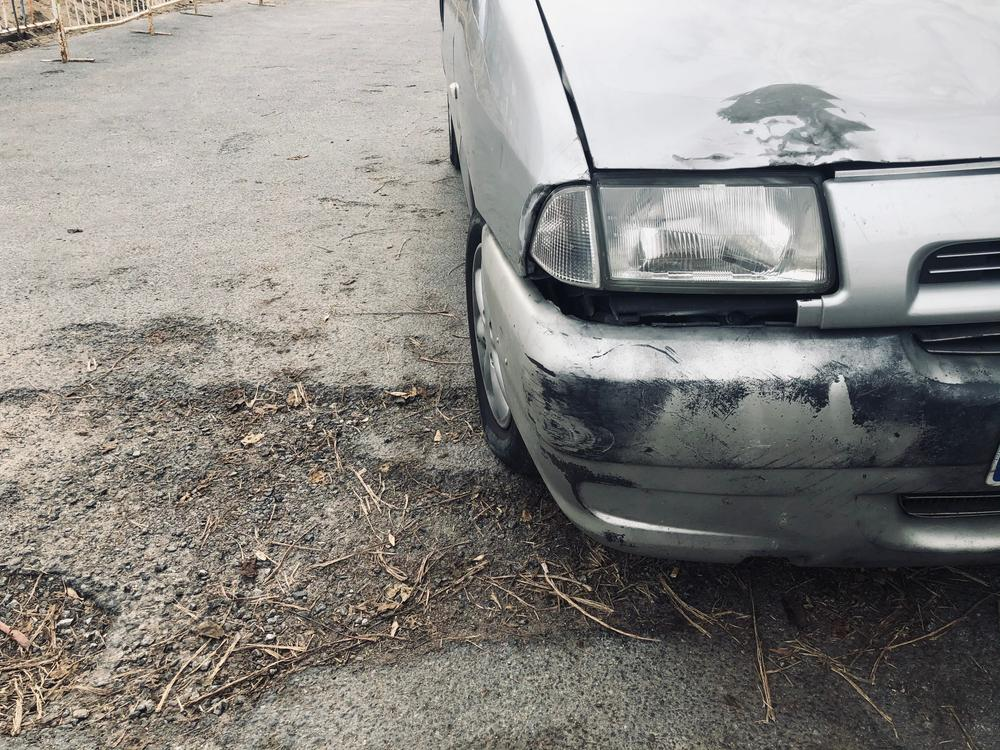scratch: (519, 345, 1000, 509), (673, 78, 885, 167)
